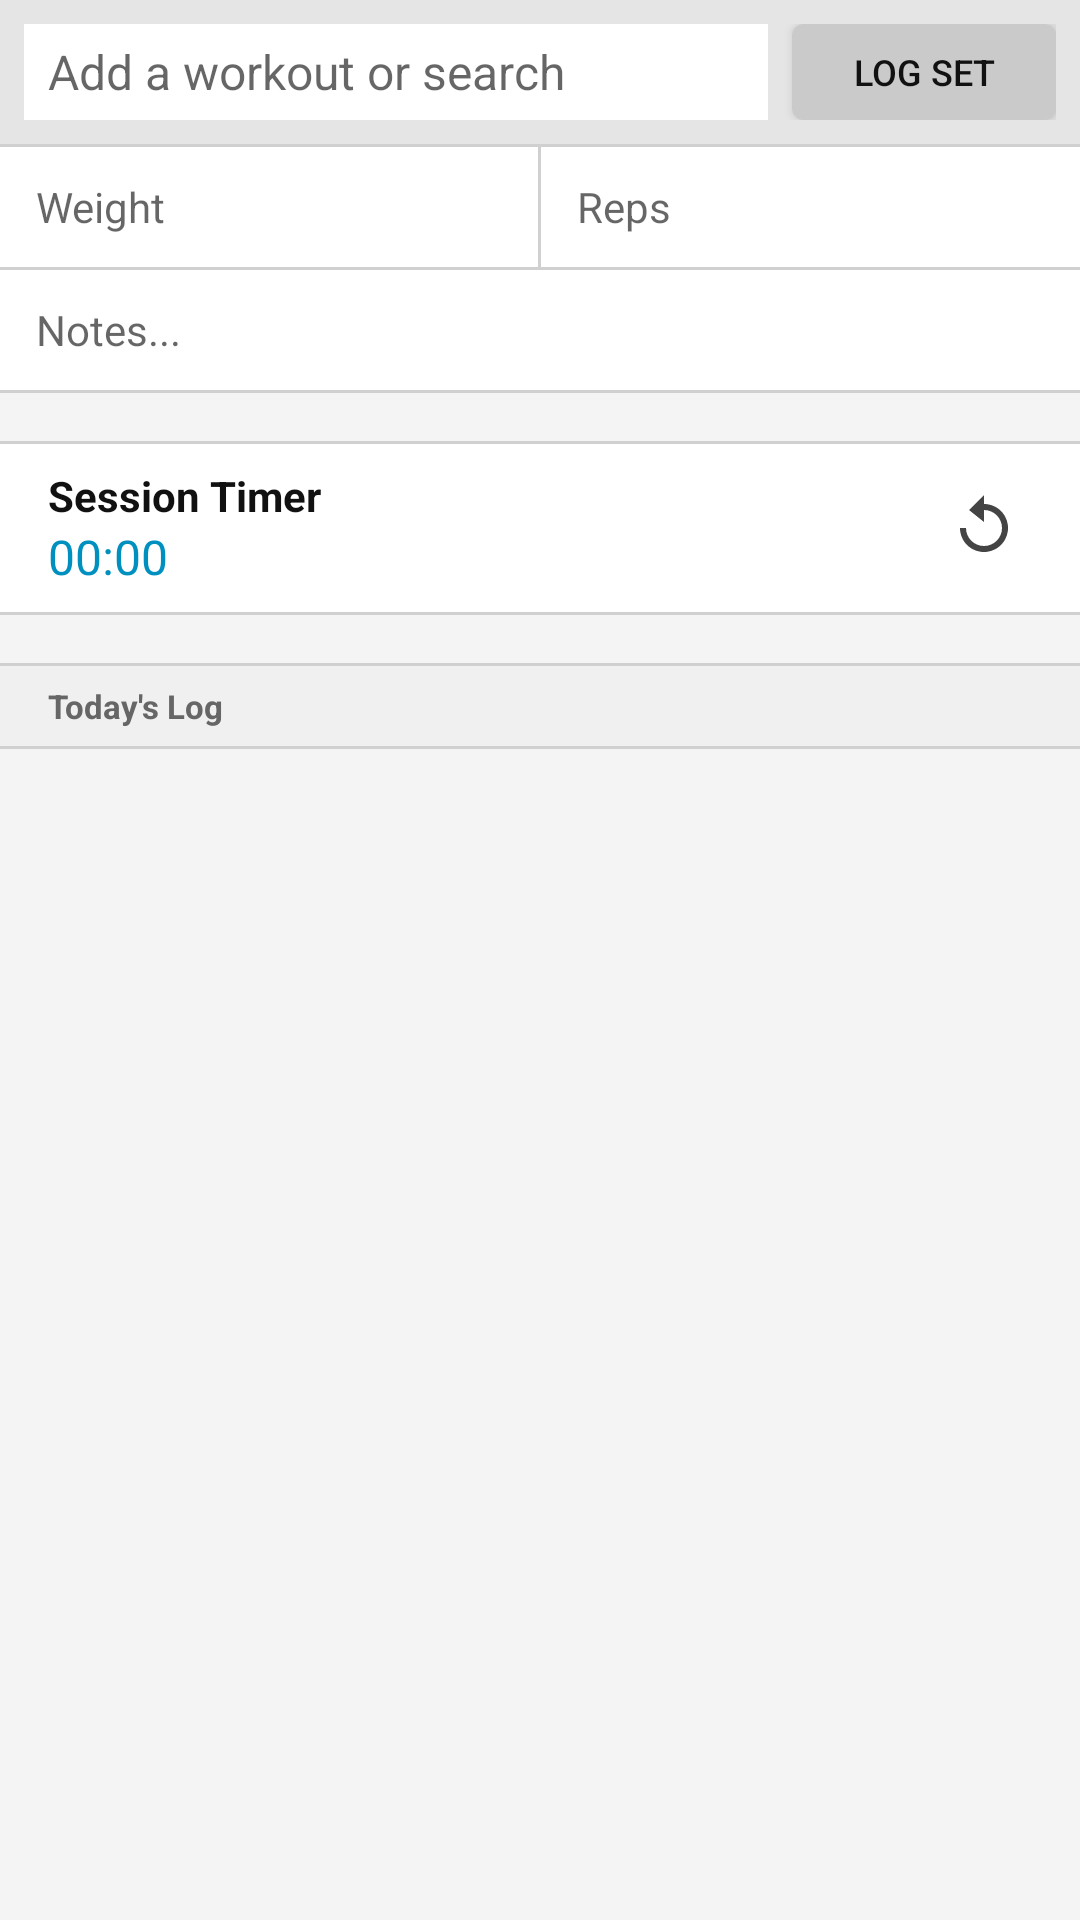

Point at icon controls on the screen. Image size 1080px×1920px, points as [x,y].
Reset workout timer: [984,523]
